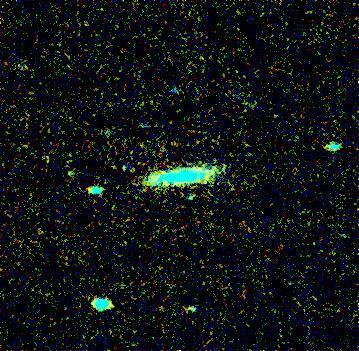star: (119, 155, 149, 185)
